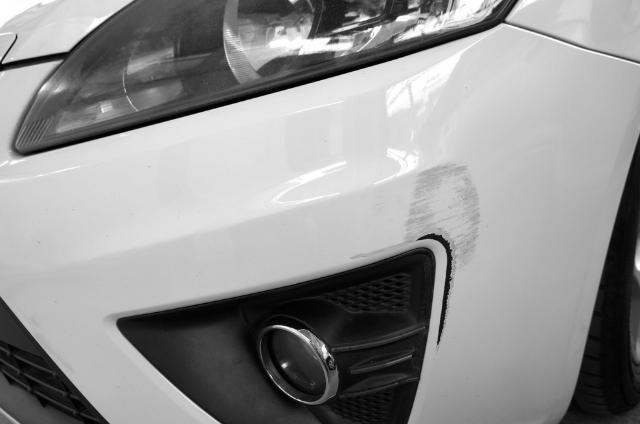Bonnet: (316, 141, 552, 271)
